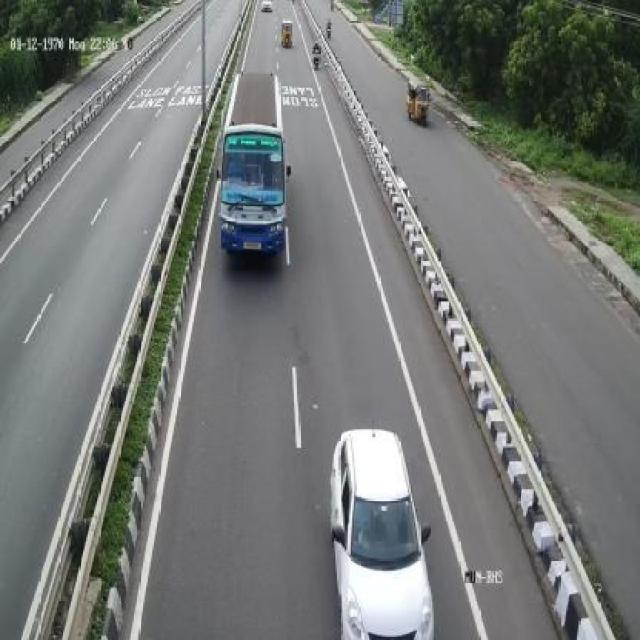car: (315, 426, 448, 637)
